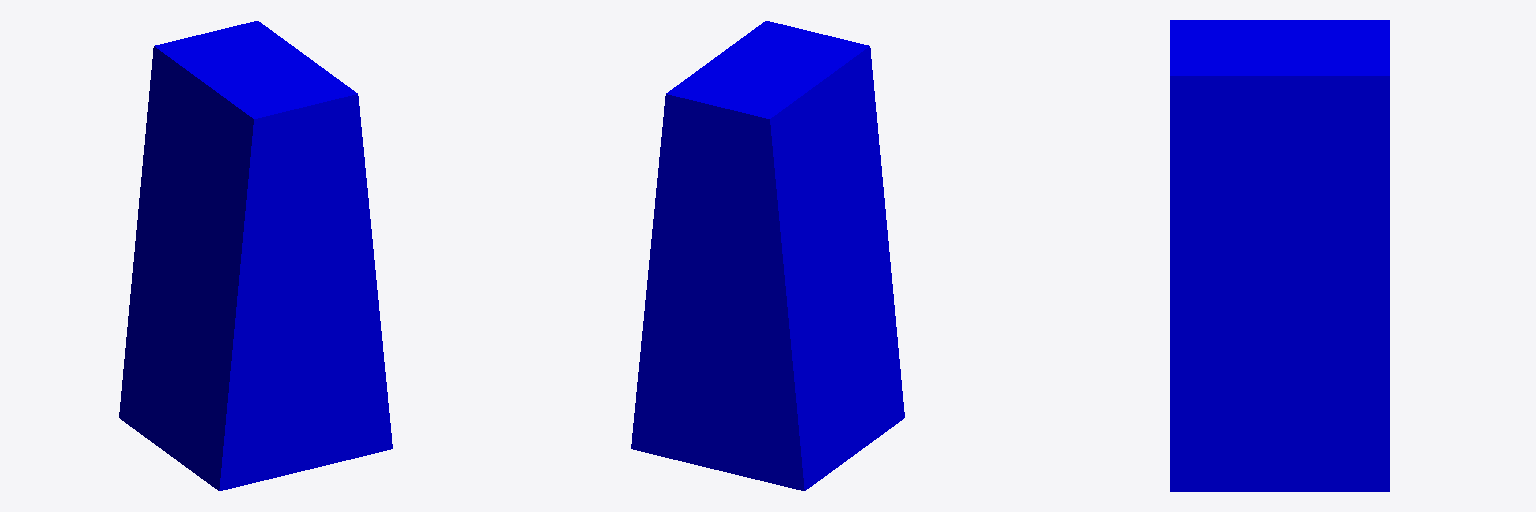
The robot description file, URDF, robot "block_t":
<?xml version="1.0"?>
<robot name="block_t">
  <link concave="no" name="block_t_base_link">
    <contact>
      <lateral_friction value="0.7"/>
      <spinning_friction value=".001"/>
    </contact>
    <inertial>
      <origin rpy="0 0 0" xyz="0 0 0"/>
      <mass value="0.389711"/>
      <inertia ixx="0.00014" ixy="0" ixz="0" iyy="0.000262" iyz="0" izz="0.000284"/>
    </inertial> 
    <visual>
      <origin rpy="0 0 0" xyz="0.0 0.0 0.0"/>
      <geometry>
        <mesh filename="package://blocks/v_block.stl"/>
      </geometry>
      <material name="blockmat">
        <color rgba="0 0 1 1"/>
      </material>
    </visual>
    <collision>
      <origin rpy="0 0 0" xyz="0.0 0.0 0.0"/>
      <geometry>
        <mesh filename="package://blocks/v_block.stl"/>
      </geometry>
    </collision>
  </link>
</robot>

--- Facts derived from the render (not from the file) ---
The picture shows the robot from 3 angles, left to right: view 1: azimuth 30°, elevation 25°; view 2: azimuth 150°, elevation 25°; view 3: azimuth 270°, elevation 25°; orthographic projection.
Robot: block_t — 1 links, 0 joints (none); root link block_t_base_link; default pose: every joint at zero.
Links seen in each view (by area): view 1: block_t_base_link; view 2: block_t_base_link; view 3: block_t_base_link.
Boxes of the visible links, bbox=[...] form: block_t_base_link: bbox=[119, 21, 392, 490]; block_t_base_link: bbox=[631, 21, 904, 490]; block_t_base_link: bbox=[1170, 20, 1389, 491].
Bounding box of the posed robot: 0.05 × 0.05 × 0.1 m (x, y, z).
1 mesh visuals loaded from 1 distinct referenced files (1 binary STL).